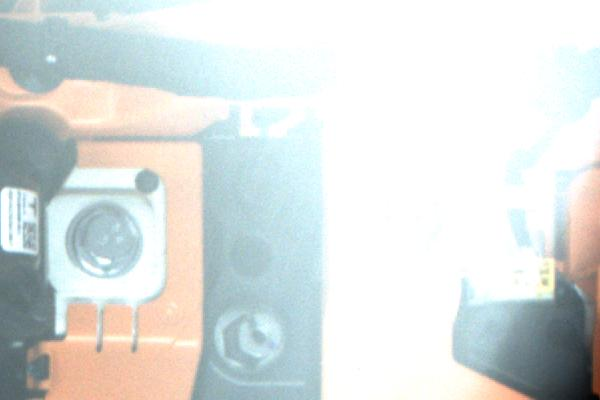nut_b: (65, 199, 141, 282)
